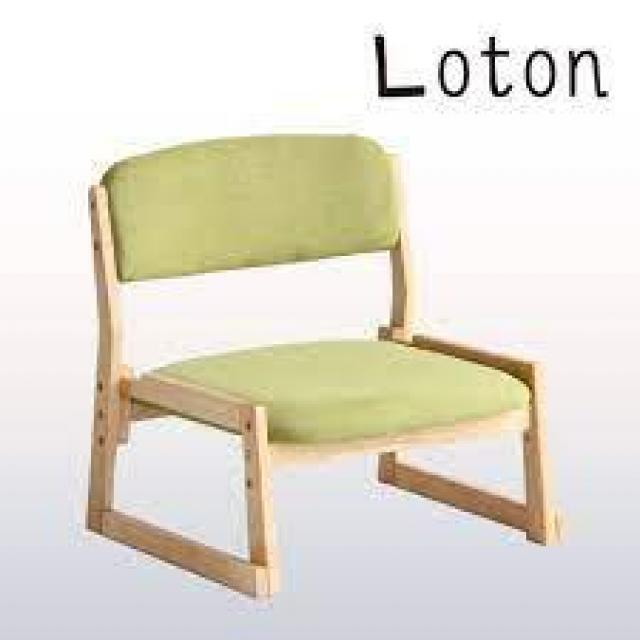chair: (37, 96, 572, 612)
